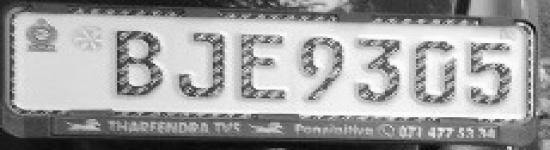0: (411, 37, 461, 109)
3: (353, 33, 405, 105)
5: (464, 40, 518, 110)
9: (296, 32, 347, 106)
B: (111, 25, 169, 102)
E: (238, 26, 292, 106)
J: (176, 27, 232, 101)
